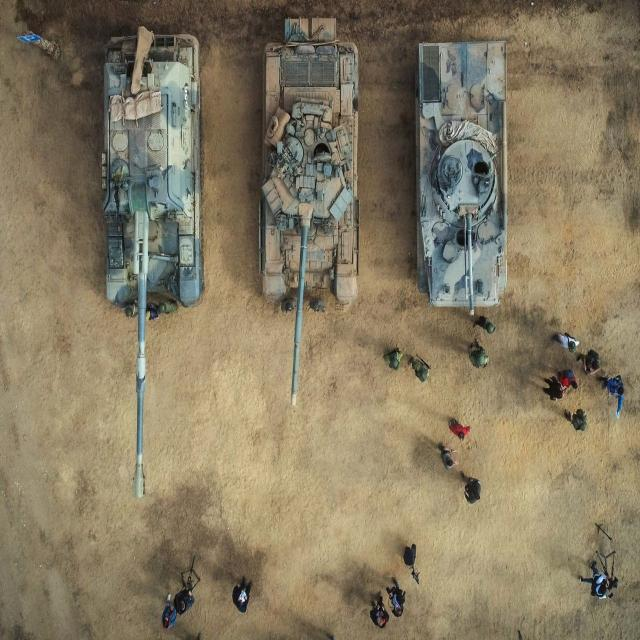tank: (86, 27, 204, 504), (255, 11, 365, 417), (411, 39, 517, 314)
